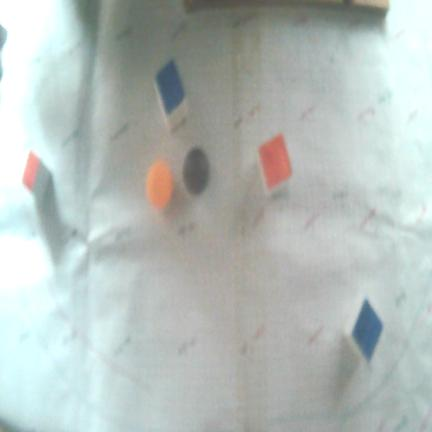circle_blue: (183, 148, 210, 196)
circle_orange: (145, 160, 174, 211)
rectangle_blue: (154, 58, 184, 117)
rectangle_orange: (21, 151, 42, 191)
square_blue: (352, 298, 384, 362)
square_orange: (259, 135, 292, 191)
